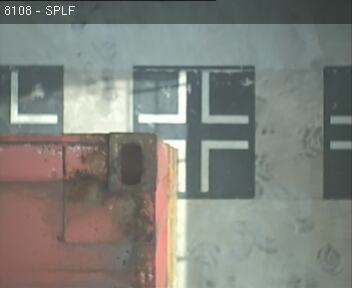groundmarker_1: (137, 70, 248, 124), (163, 139, 249, 192)
